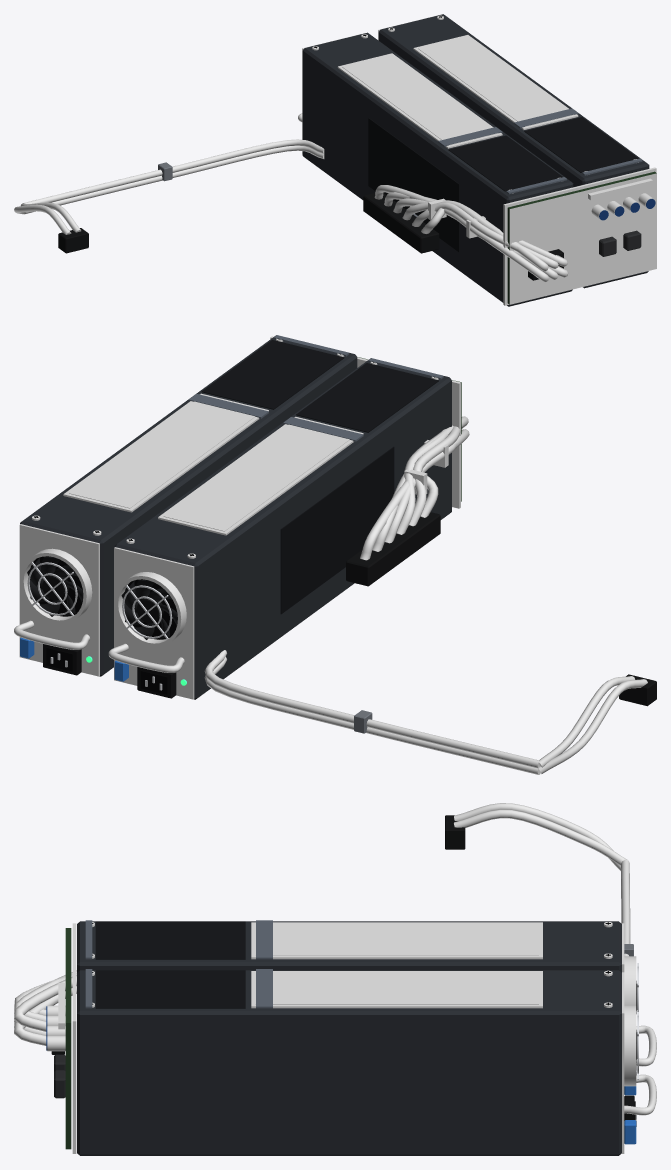
The model's file is hwm_psu_1800w_tit.glb.
The picture shows the model from 3 angles, top to bottom: view 1: azimuth 30°, elevation 25°; view 2: azimuth 150°, elevation 25°; view 3: azimuth 270°, elevation 25°; orthographic projection. The views are drawn at different scales.
Parts seen in each view (by area): view 1: Body, Cable_ATX24, Cable_EPS_Run, Cable_EPS_Plug; view 2: Body, Cable_ATX24, Cable_EPS_Run, Cable_EPS_Plug; view 3: Body, Cable_EPS_Plug, Cable_ATX24, Cable_EPS_Run.
Boxes of the visible parts, box(x1,y1,x2,y2) form: Body: box(298, 14, 656, 306); Cable_ATX24: box(363, 185, 568, 281); Cable_EPS_Run: box(23, 139, 324, 214); Cable_EPS_Plug: box(14, 202, 88, 253); Body: box(14, 335, 461, 699); Cable_ATX24: box(346, 416, 469, 586); Cable_EPS_Run: box(204, 650, 540, 774); Cable_EPS_Plug: box(538, 674, 656, 773); Body: box(46, 920, 656, 1155); Cable_EPS_Plug: box(445, 803, 627, 870); Cable_ATX24: box(14, 970, 76, 1054); Cable_EPS_Run: box(621, 859, 633, 956).
Bounding box in the file's own units: 0.4035 × 0.0958 × 0.3776.
